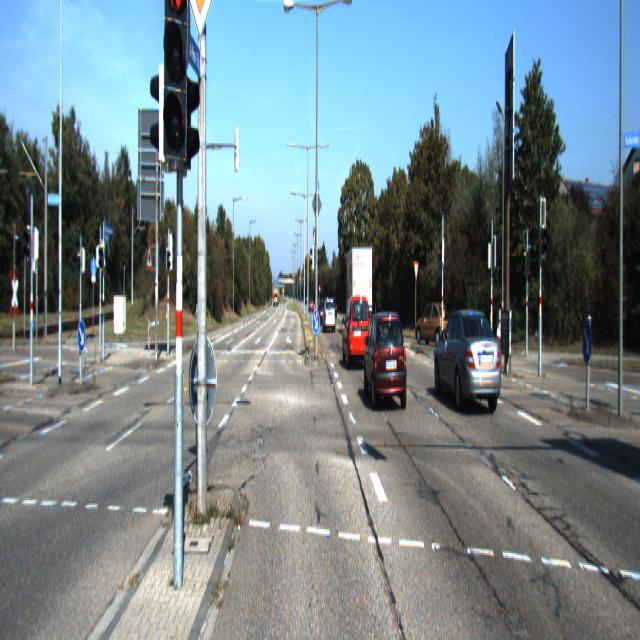Car: (434, 306, 504, 416), (364, 309, 408, 413), (344, 244, 372, 336), (342, 293, 371, 373), (415, 298, 449, 346), (323, 297, 336, 333)
